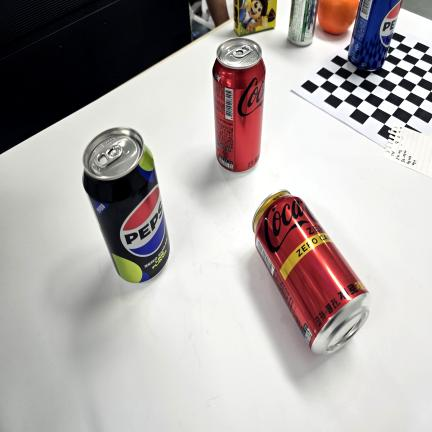can_coke_decaf: (251, 186, 370, 355)
can_coke_zero: (211, 39, 267, 172)
can_pepsi_zero: (82, 125, 173, 284)
